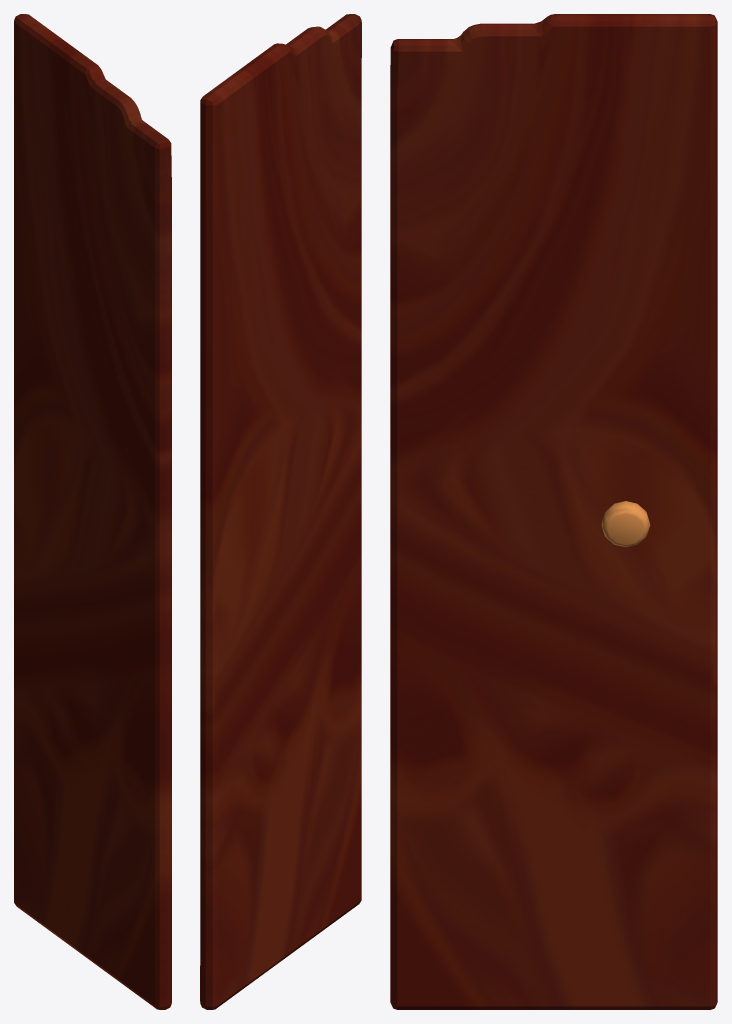
Rendered from porta_armario01.glb.
3 renders of one model, left to right at view 1: azimuth 30°, elevation 25°; view 2: azimuth 150°, elevation 25°; view 3: azimuth 270°, elevation 25°, orthographic. The views are drawn at different scales.
Visible parts, largest first — view 1: porta; view 2: porta; view 3: porta, maçaneta.
Boxes of the visible parts, left/top/right/bottom form: porta: left=14, top=14, right=171, bottom=1009; porta: left=200, top=14, right=361, bottom=1009; porta: left=390, top=14, right=717, bottom=1009; maçaneta: left=601, top=501, right=650, bottom=547.
Size of the model in its own units: 0.1076 by 2 by 0.5978.
Materials: 2 (1 with a texture image).
